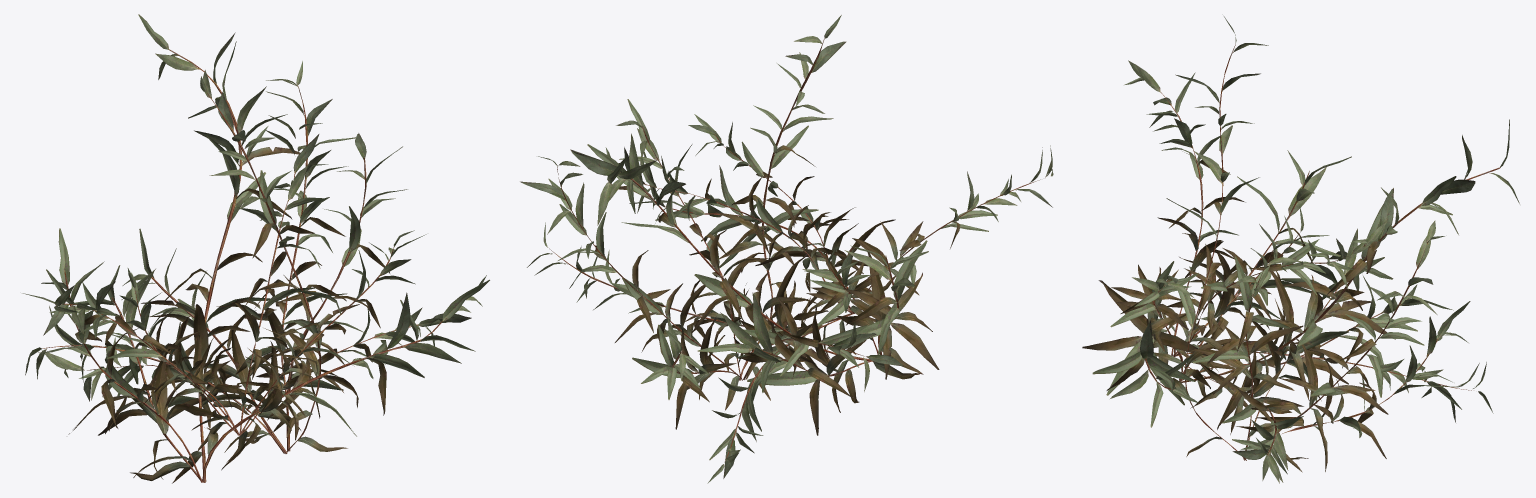
File: shrub-lod-1k.glb
3 views of the same model, side by side, from view 1: azimuth 30°, elevation 25°; view 2: azimuth 150°, elevation 25°; view 3: azimuth 270°, elevation 25° (orthographic). The views are drawn at different scales.
Visible parts, largest first — view 1: shrub_near_1, shrub_near_2, shrub_near_0, shrub_mid_1, shrub_mid_2, shrub_mid_0; view 2: shrub_near_1, shrub_near_0, shrub_mid_1, shrub_near_2, shrub_mid_0, shrub_mid_2; view 3: shrub_near_0, shrub_near_2, shrub_near_1, shrub_mid_0, shrub_mid_1, shrub_mid_2.
Boxes of the visible parts, x1,y1,x2,y2 form: shrub_near_1: [22, 14, 489, 483]; shrub_near_2: [42, 115, 486, 462]; shrub_near_0: [25, 61, 407, 453]; shrub_mid_1: [45, 33, 461, 481]; shrub_mid_2: [43, 116, 486, 450]; shrub_mid_0: [28, 64, 402, 451]; shrub_near_1: [570, 134, 939, 435]; shrub_near_0: [520, 15, 903, 429]; shrub_mid_1: [571, 133, 937, 434]; shrub_near_2: [527, 114, 1053, 483]; shrub_mid_0: [521, 17, 904, 428]; shrub_mid_2: [530, 123, 1052, 478]; shrub_near_0: [1155, 16, 1470, 471]; shrub_near_2: [1110, 60, 1491, 483]; shrub_near_1: [1082, 119, 1519, 427]; shrub_mid_0: [1155, 43, 1460, 471]; shrub_mid_1: [1082, 122, 1519, 426]; shrub_mid_2: [1114, 62, 1493, 482].
Size of the model in its own units: 1.59 by 1.25 by 1.23.
1 material, 1 textured.
